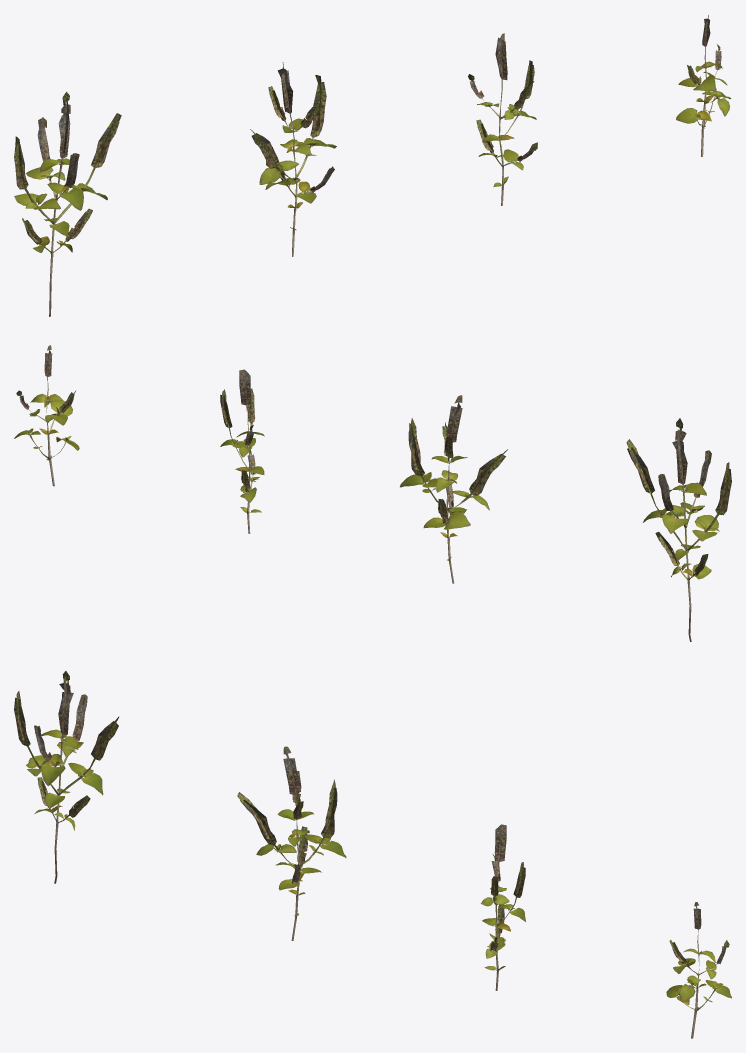
Rendered from shrub_03_lod1.glb.
3 renders of one model, top to bottom at view 1: azimuth 30°, elevation 25°; view 2: azimuth 150°, elevation 25°; view 3: azimuth 330°, elevation 25°, orthographic. The views are drawn at different scales.
Parts seen in each view (by area): view 1: shrub_03_a; view 2: shrub_03_a; view 3: shrub_03_a.
Part boxes in pixels (left/top/right/bottom): shrub_03_a: left=14, top=15, right=731, bottom=316; shrub_03_a: left=14, top=345, right=731, bottom=641; shrub_03_a: left=14, top=671, right=731, bottom=1038.
Size of the model in its own units: 1.37 by 0.4029 by 0.1512.
1 material, 1 textured.
